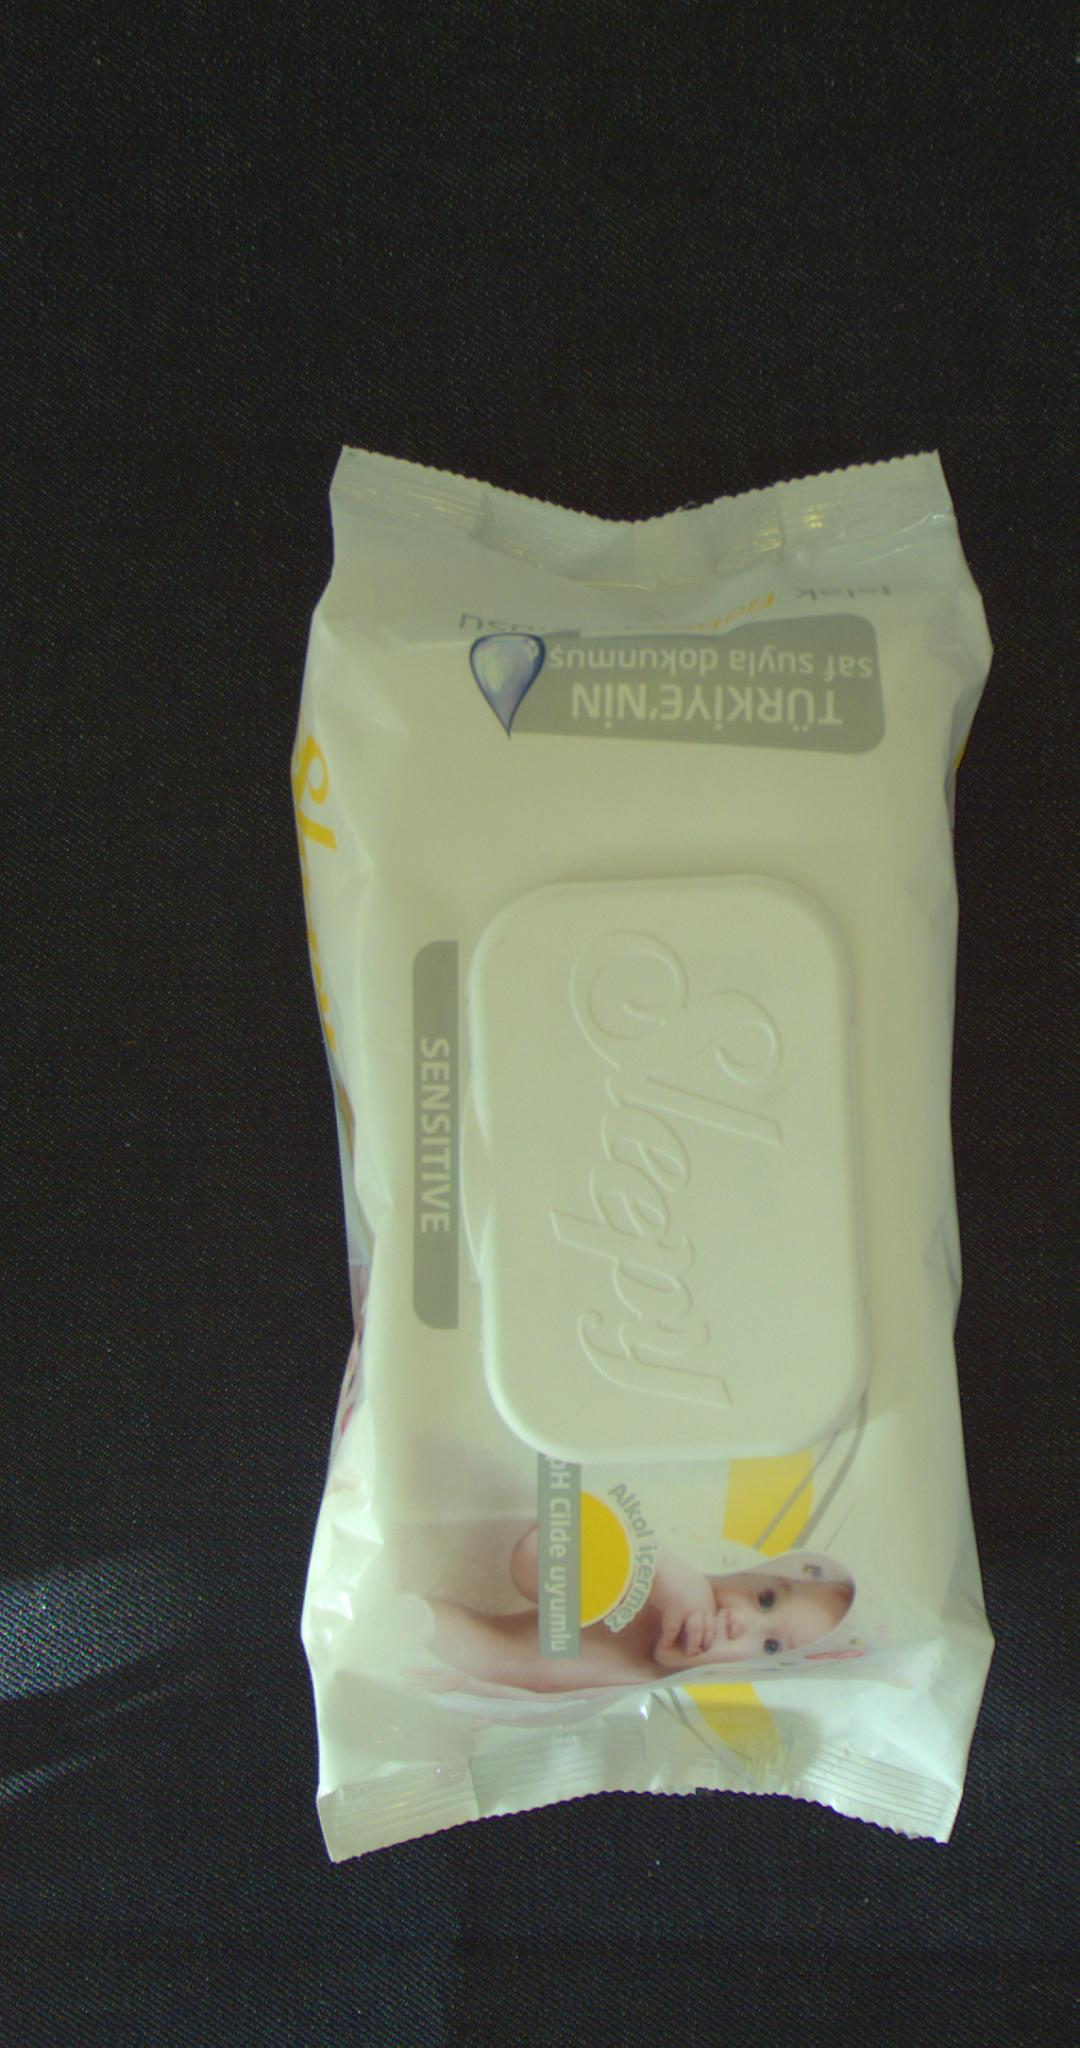kapak: (454, 882, 866, 1456)
